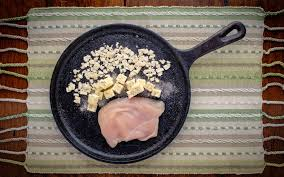Chicken: (100, 103, 163, 145)
